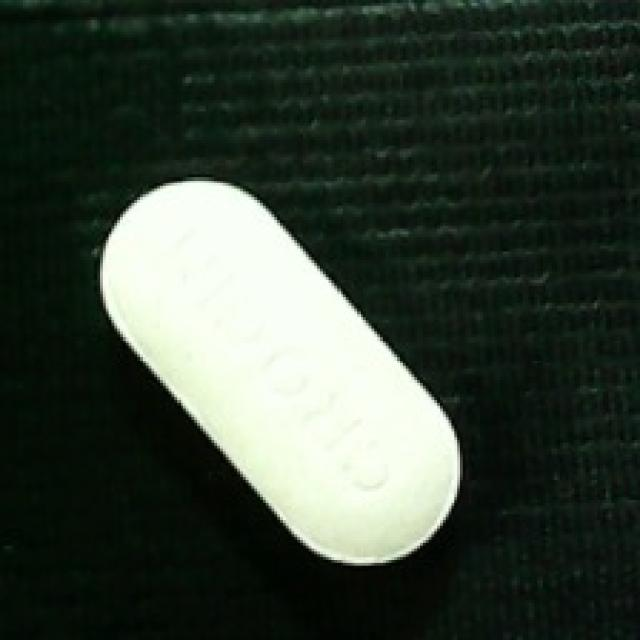no-defect: (97, 176, 465, 568)
